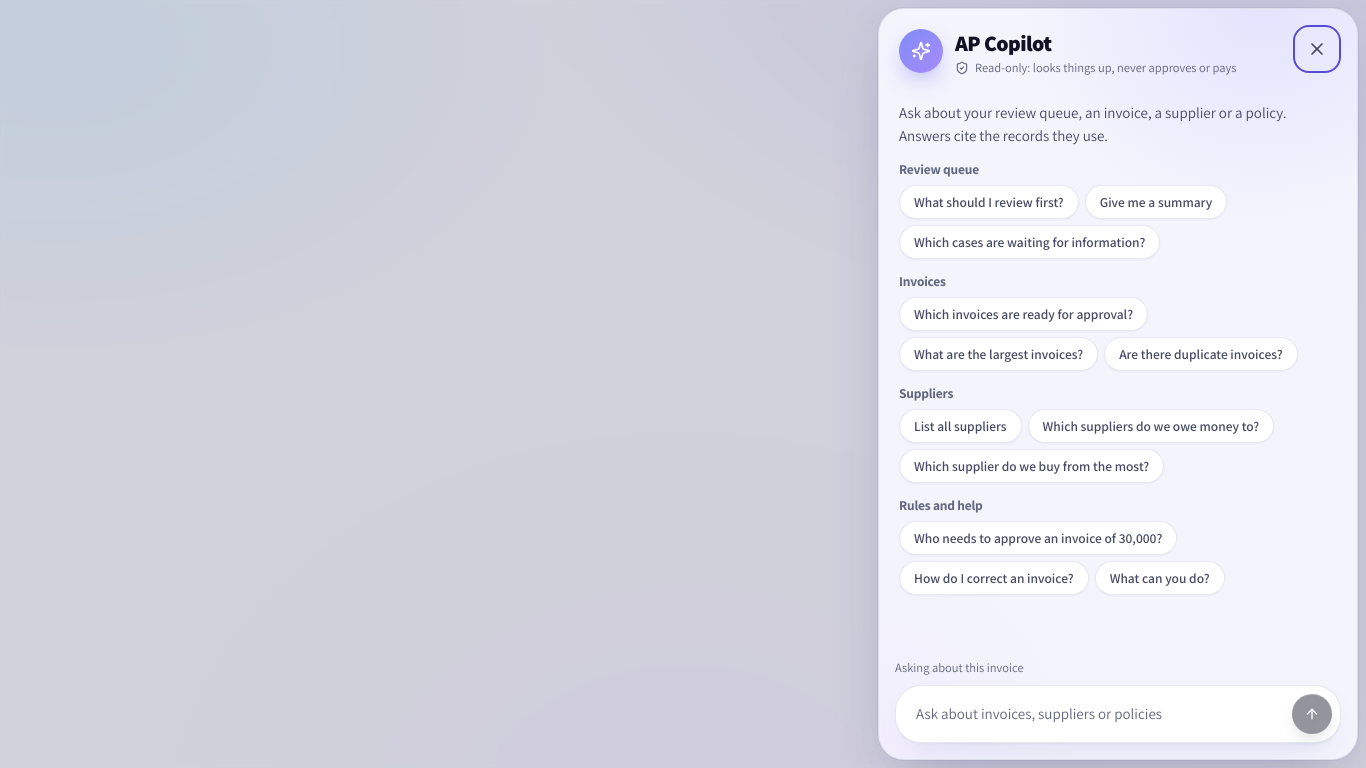
Test: AP Copilot panel › shows which read-only tools ran
The image size is (1366, 768).
Type "What should I review first?" into the text box labelled "Ask about invoices, suppliers or policies" at (1094, 714), box [904,694,1284,734]
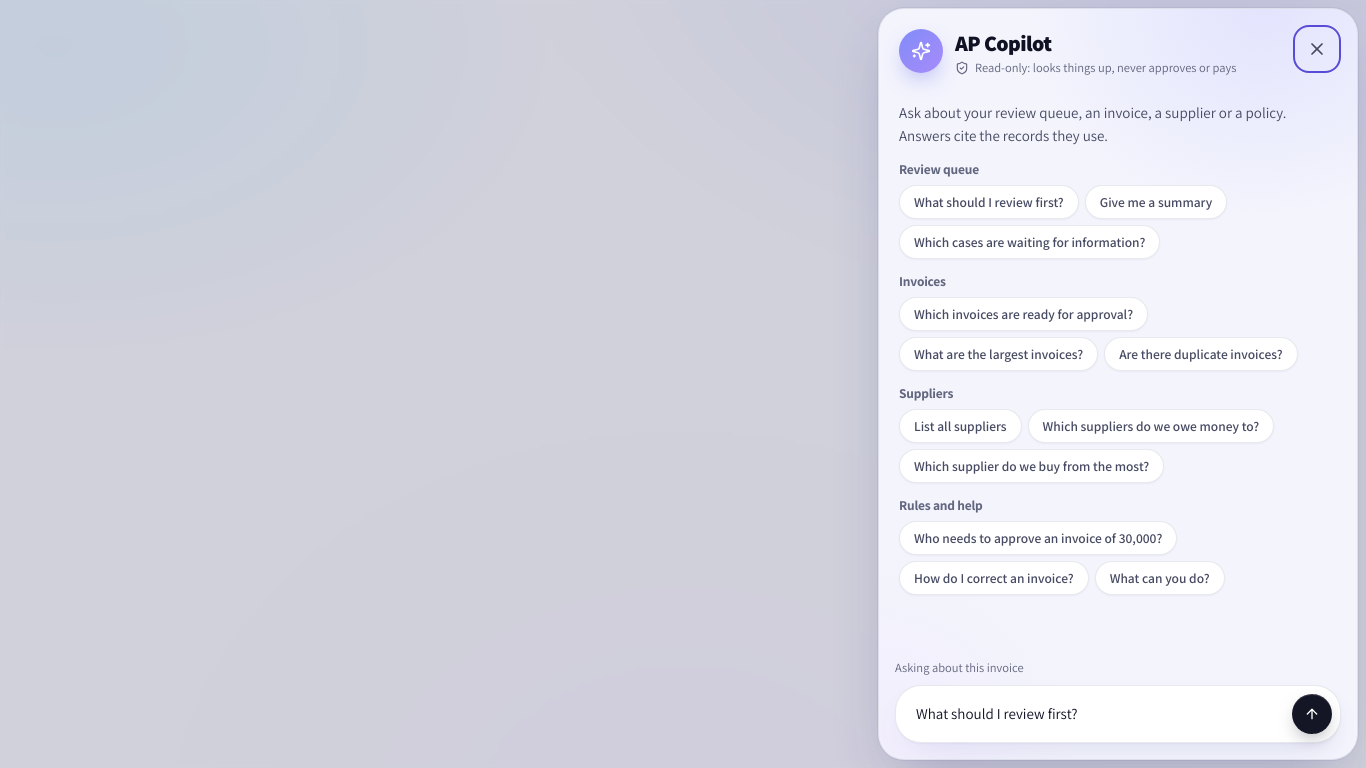
Press Enter in the text box named "Ask", box [904,694,1284,734]
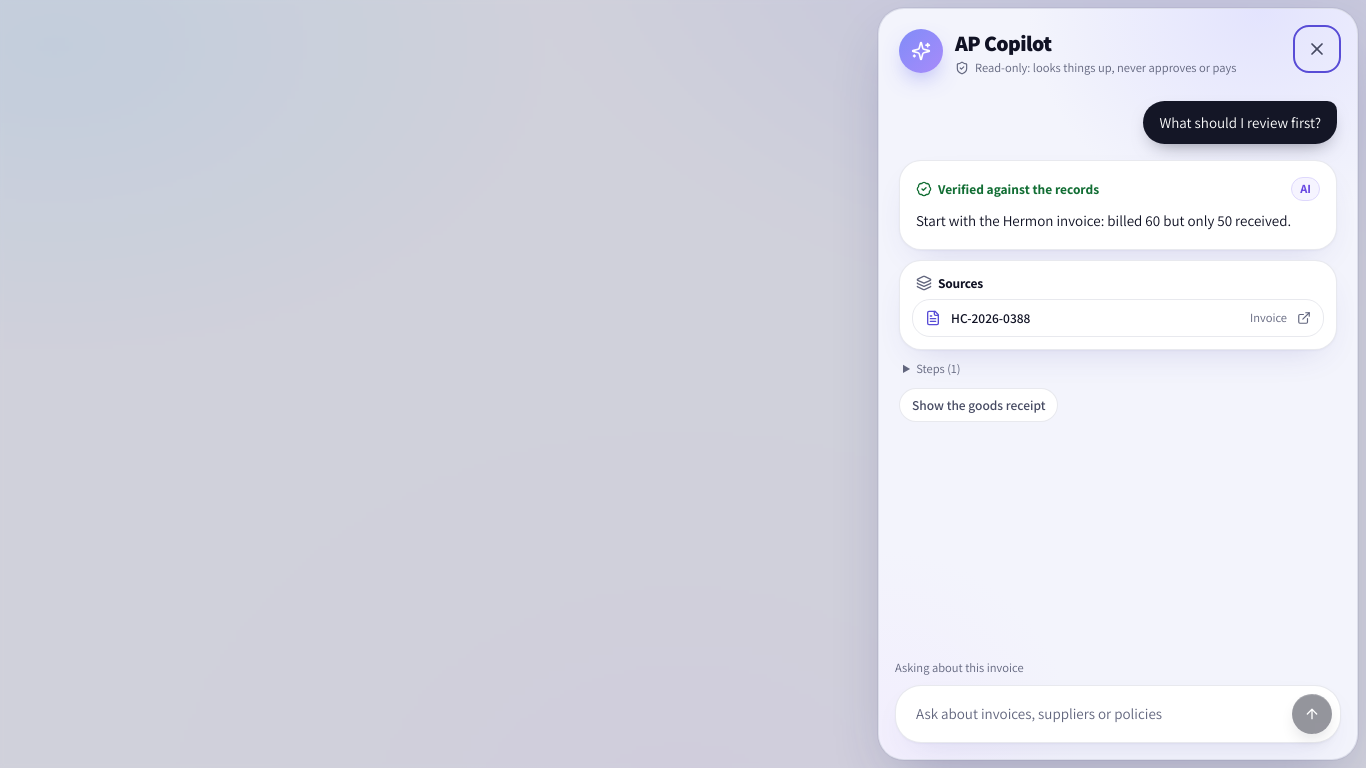
Click the heading "Steps (1)" at (938, 369), box [916,360,960,377]
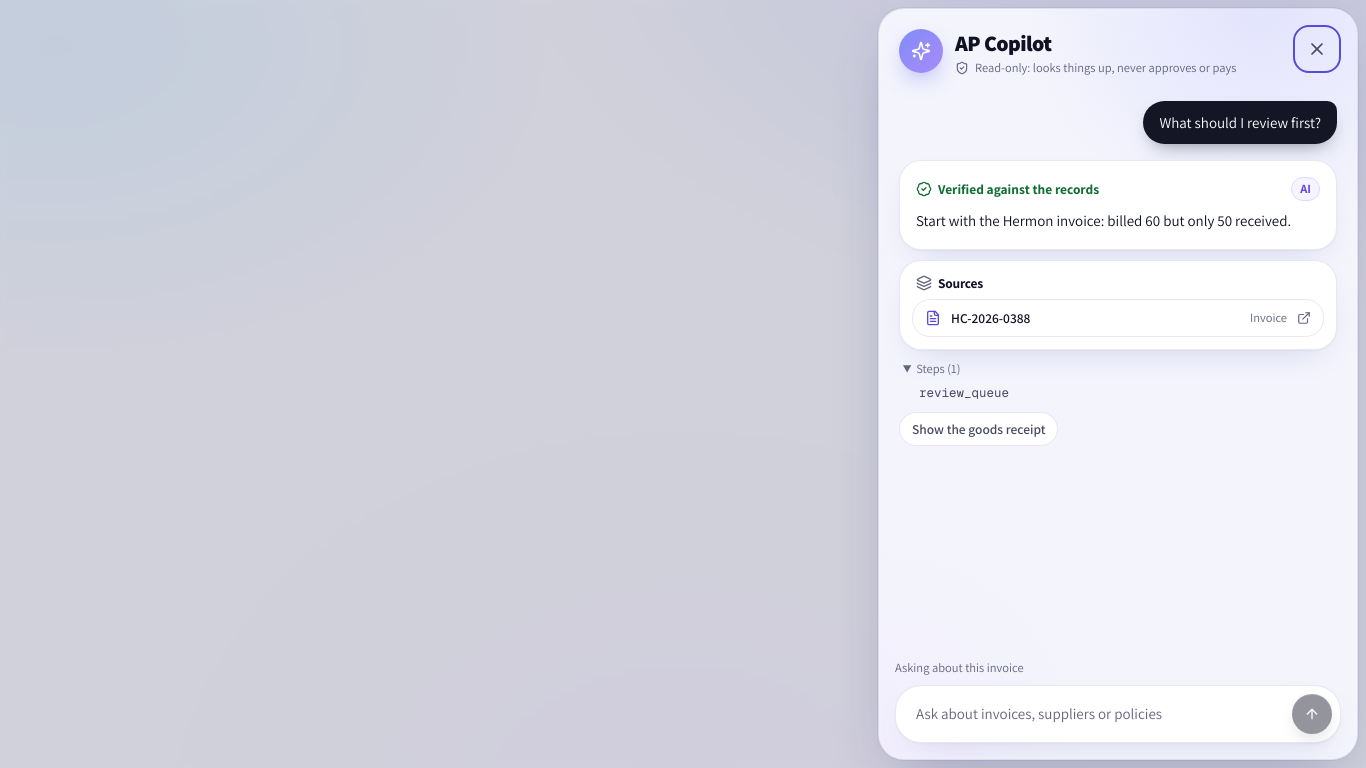
Check: the text "review_queue" is shown, box [919,384,1009,402]
